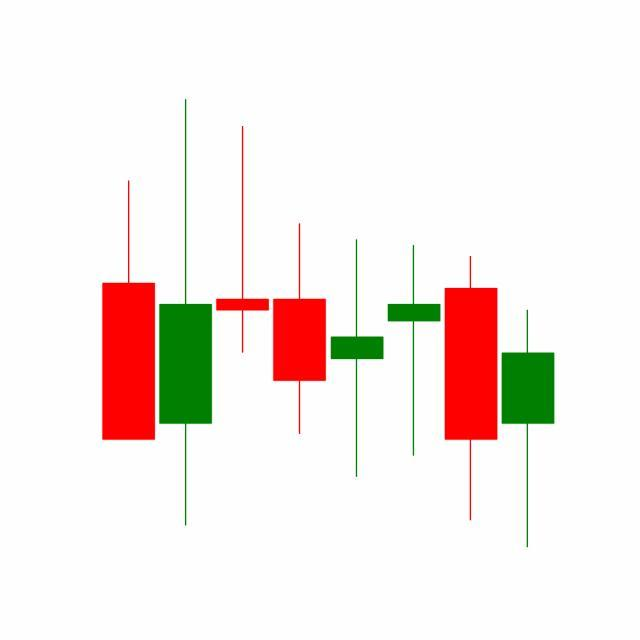Hikkake Pattern: (214, 123, 501, 526)
